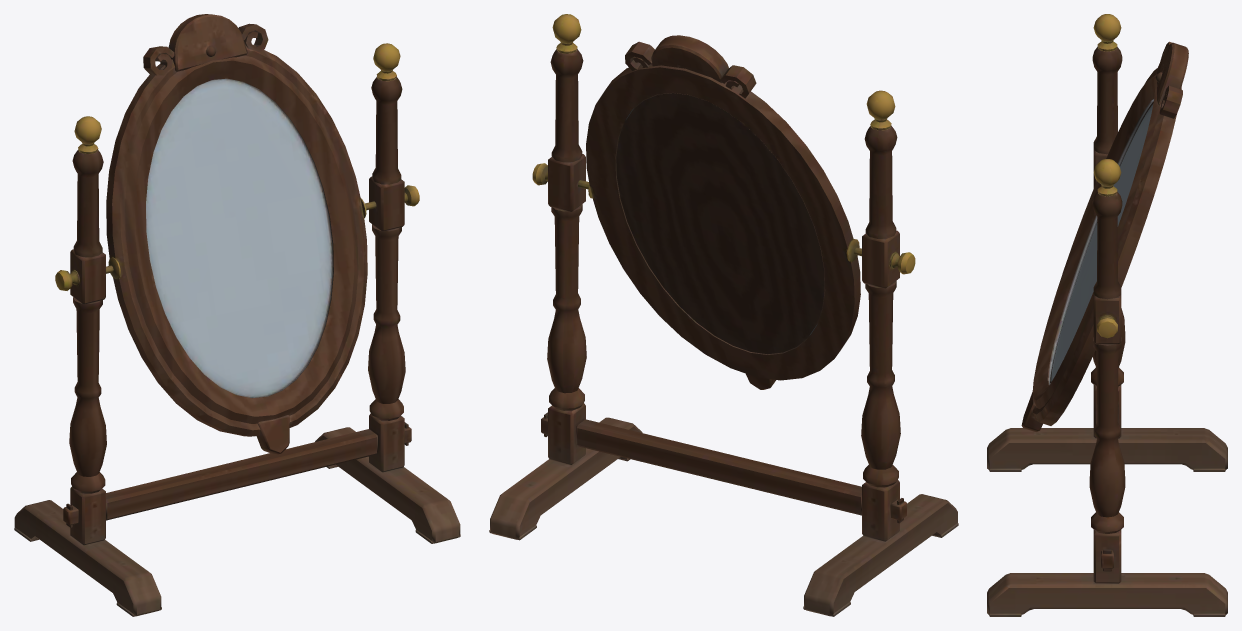
Rendered from mirror.glb.
The picture shows the model from 3 angles, left to right: view 1: azimuth 30°, elevation 25°; view 2: azimuth 150°, elevation 25°; view 3: azimuth 270°, elevation 25°; orthographic projection. The views are drawn at different scales.
Parts seen in each view (by area): view 1: mirror; view 2: mirror; view 3: mirror.
Boxes of the visible parts, x1,y1,x2,y2 form: mirror: (14,14,460,616); mirror: (489,14,958,616); mirror: (987,14,1227,616).
Size of the model in its own units: 0.888 by 1.17 by 0.52.
Materials: 1 (1 with a texture image).
